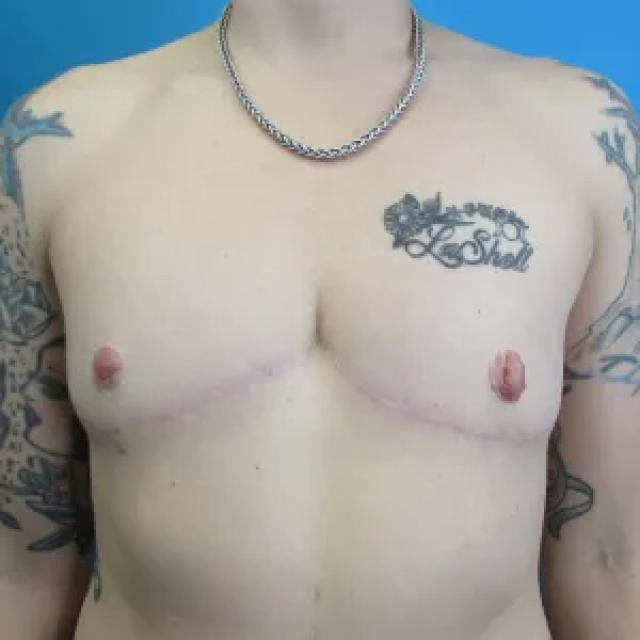Seno herido: (44, 250, 313, 447), (322, 251, 575, 448)
